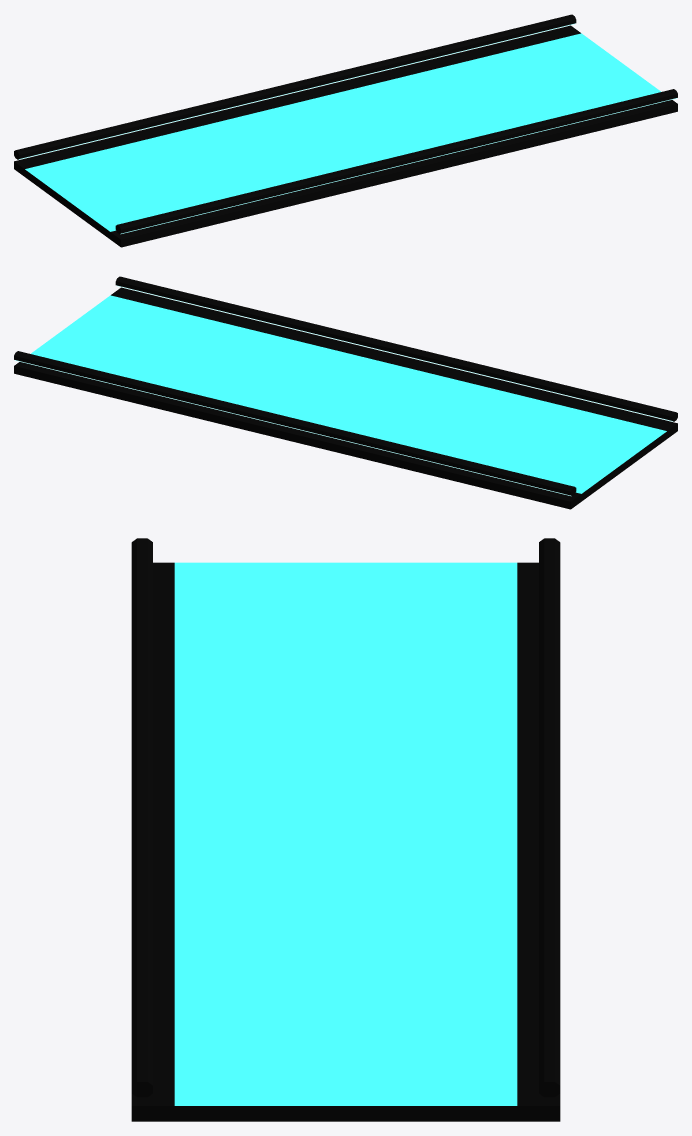
File: chemin.fbx
The picture shows the model from 3 angles, top to bottom: view 1: azimuth 30°, elevation 25°; view 2: azimuth 150°, elevation 25°; view 3: azimuth 270°, elevation 25°; orthographic projection. The views are drawn at different scales.
Visible parts, largest first — view 1: Cube, Cube.001; view 2: Cube, Cube.001; view 3: Cube, Cube.001.
Part boxes in pixels (<box>): Cube: <box>14,25,677,247</box>; Cube.001: <box>14,14,677,234</box>; Cube: <box>14,287,677,509</box>; Cube.001: <box>14,276,677,496</box>; Cube: <box>131,562,560,1121</box>; Cube.001: <box>131,538,560,1097</box>.
Bounding box in the file's own units: 3000 × 102 × 1000.
